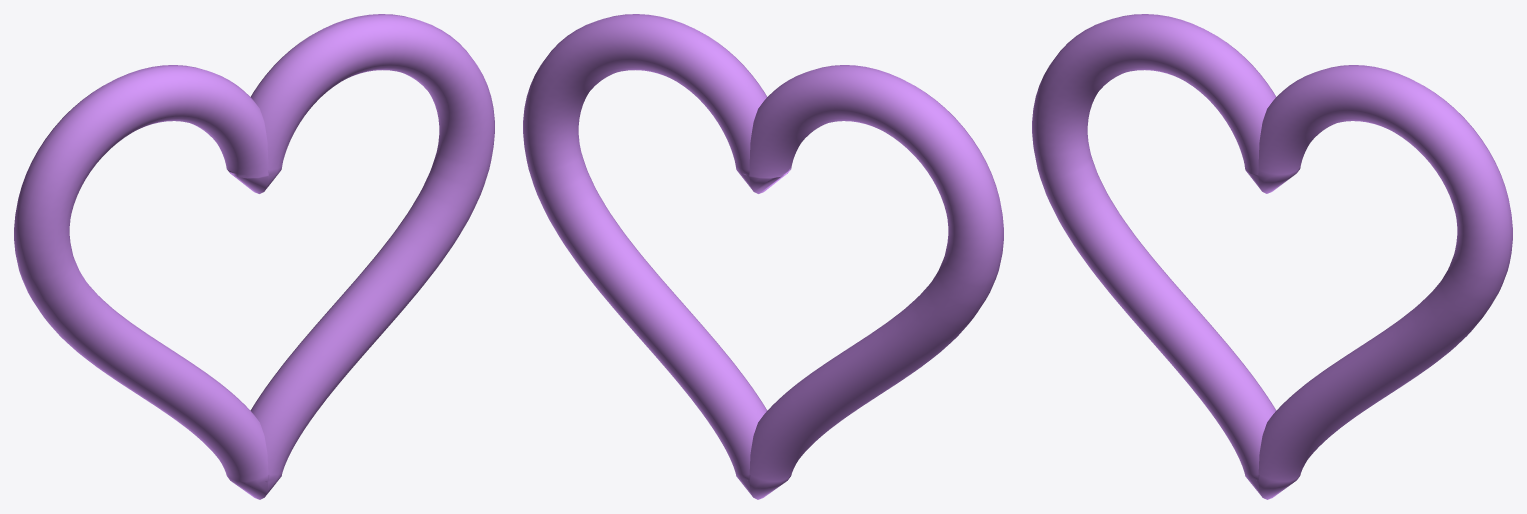
Rendered from heart-Cz4NEBep.glb.
3 renders of one model, left to right at view 1: azimuth 30°, elevation 25°; view 2: azimuth 150°, elevation 25°; view 3: azimuth 330°, elevation 25°, orthographic.
Visible parts, largest first — view 1: R3D_heart_Body_0; view 2: R3D_heart_Body_0; view 3: R3D_heart_Body_0.
Part boxes in pixels (x1,y1,x2,y2): R3D_heart_Body_0: (14, 14, 494, 499); R3D_heart_Body_0: (523, 14, 1003, 499); R3D_heart_Body_0: (1032, 14, 1512, 499).
Bounding box in the file's own units: 2.34 × 2.14 × 0.24.
